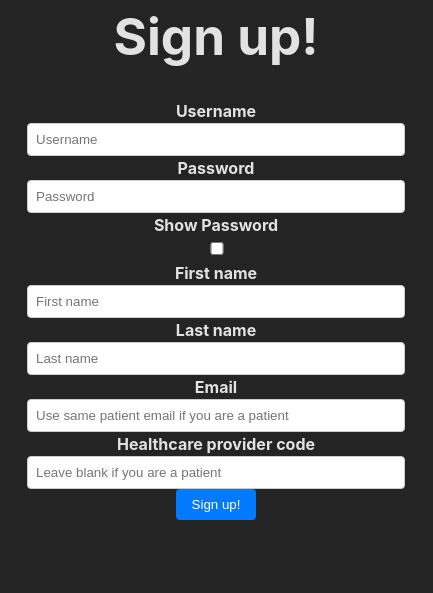
Test case: SignUpForm component › shows error with empty fields
Click the button: click(216, 504) top-left (176, 489), bottom-right (256, 520)
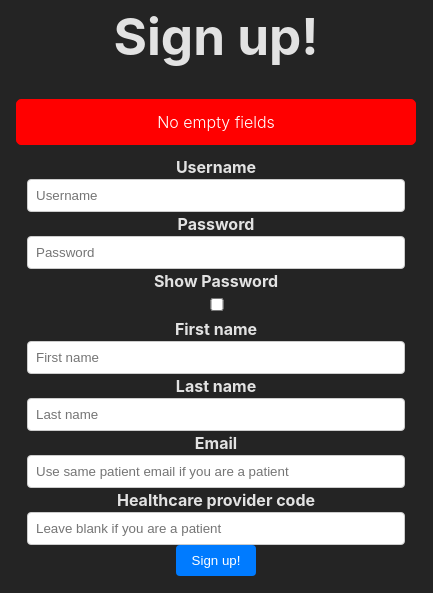
Now the text "No empty fields" is shown, box top-left (16, 99), bottom-right (416, 145)
